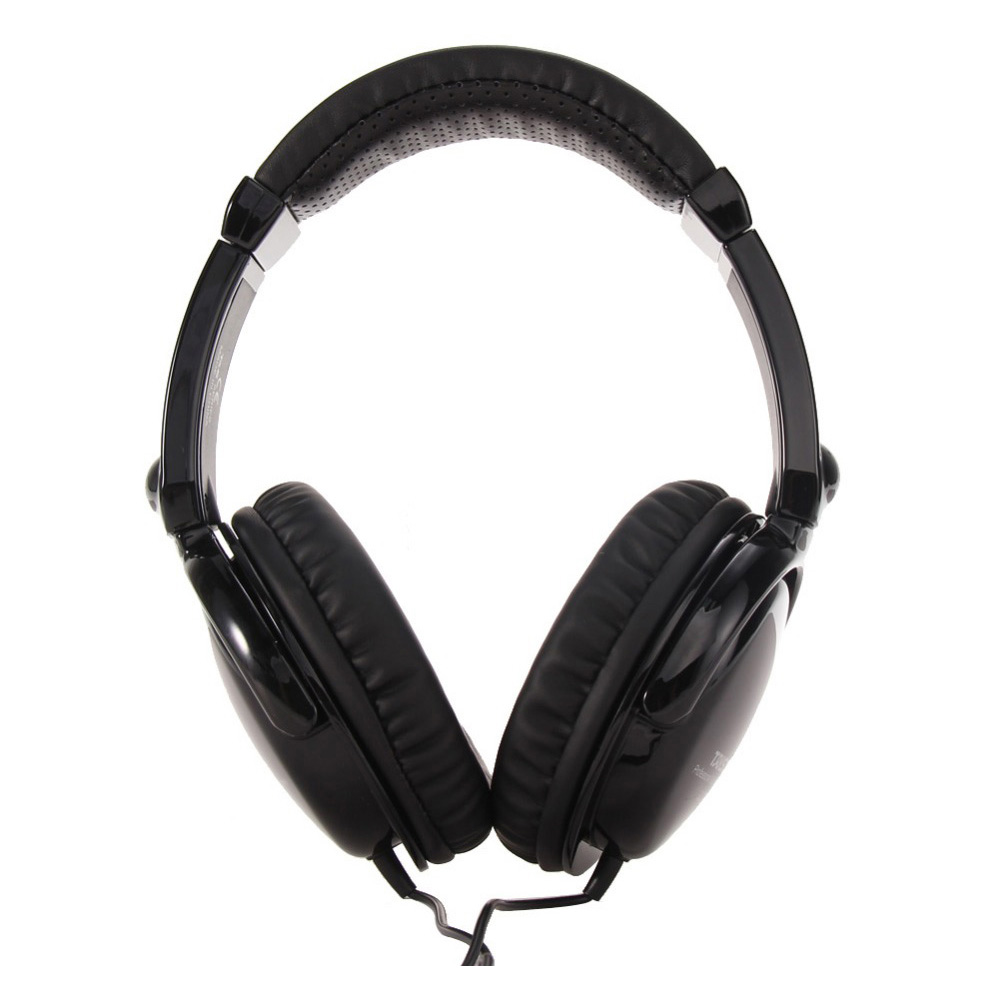Headphone: (136, 39, 850, 944)
